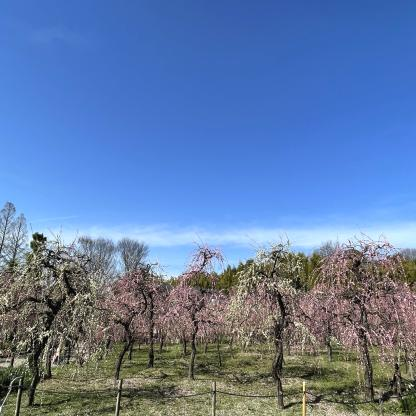Ume: (0, 234, 146, 370), (304, 223, 416, 384), (136, 232, 251, 357), (238, 229, 338, 352)
